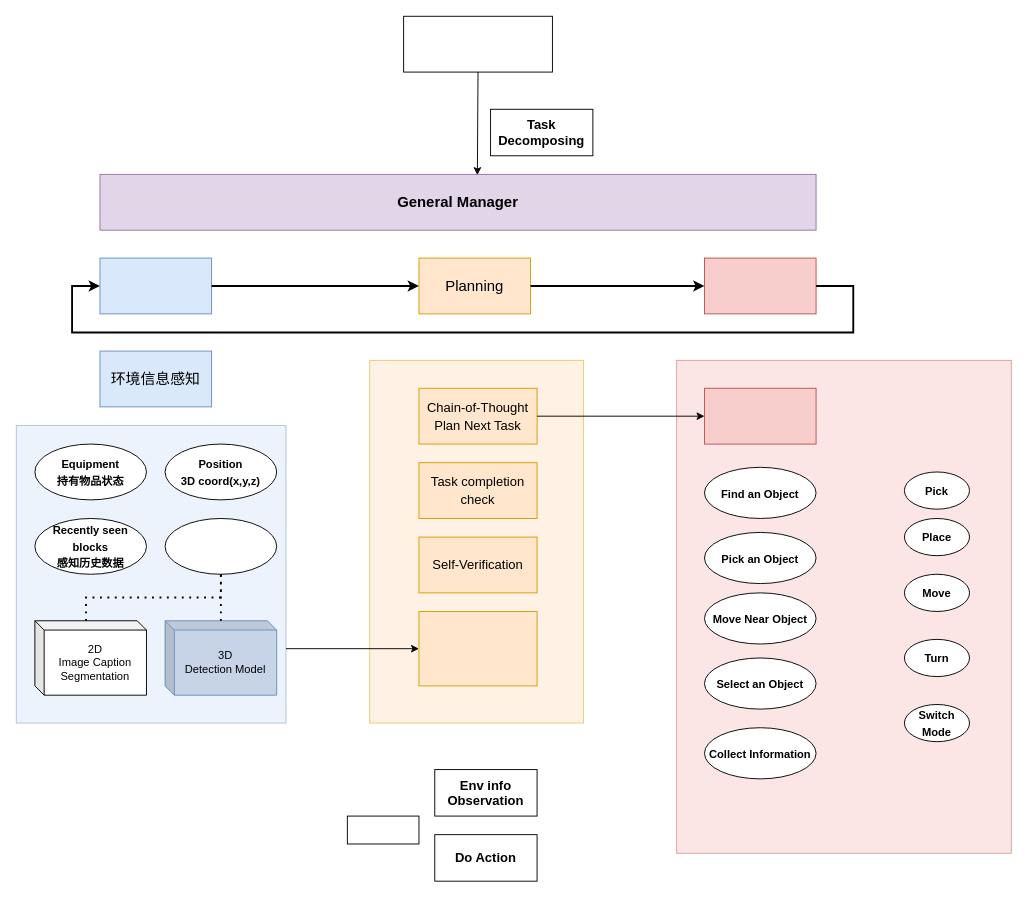
Image size: 1028x897. Some labels were removed from this diagram. The centre of each missing label's shape, as x and y in pixels:
Action: the point at 760,285
Language Instruction: the point at 477,43
Nearby entities 周围物体感知: the point at 220,546
Perception: the point at 155,285
Random: the point at 382,829
Skill Library Space: the point at 760,415
Vision-Language Model 结果解读: the point at 477,648
